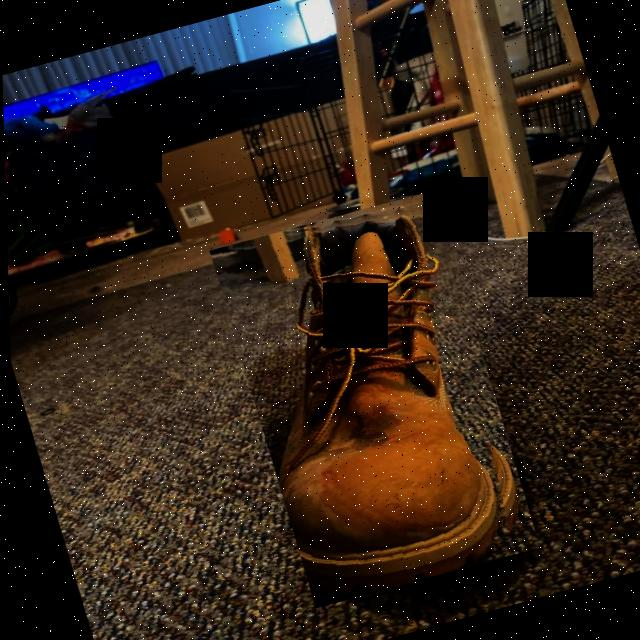shoe: (206, 190, 538, 608)
